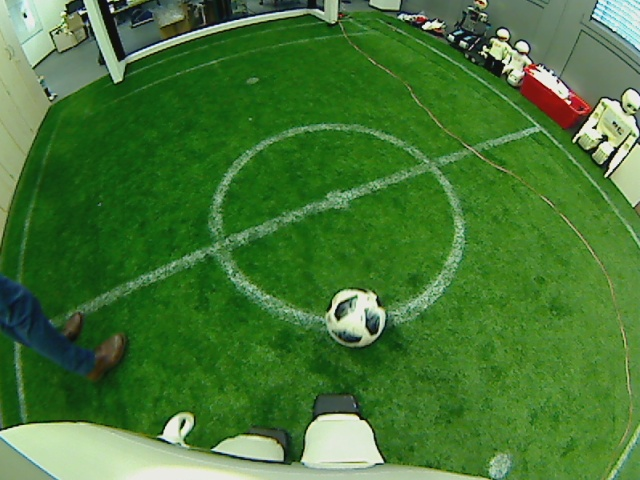ball: (323, 287, 389, 349)
